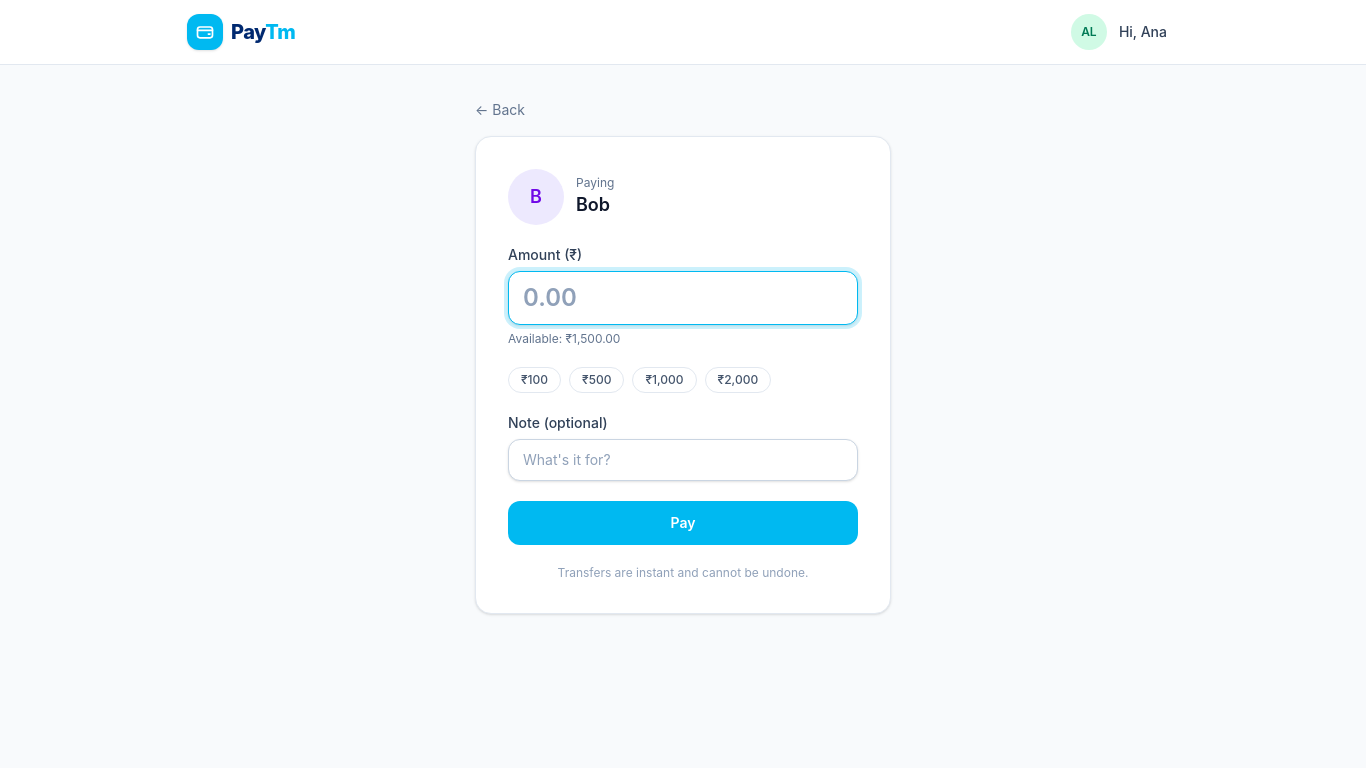
Scenario: SendMoney › shows server errors such as insufficient balance
Check: the text "Available: ₹1,500.00" is shown, box x1=508 y1=331 x2=620 y2=346
Type "10" into the field labelled "Amount (₹)".
click(683, 298); type("10")  # box x1=508 y1=271 x2=858 y2=325
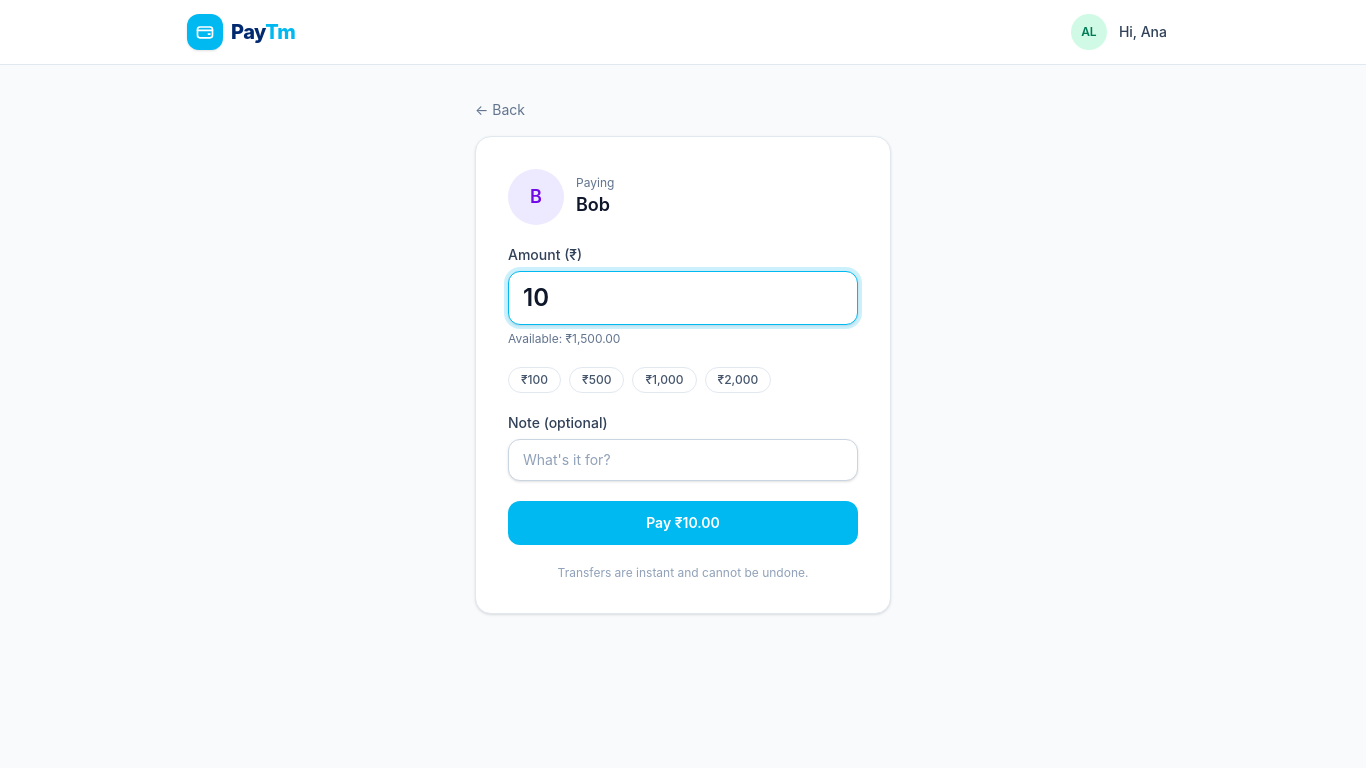
Click the button "Pay ₹10.00".
click(683, 523)  # box x1=508 y1=501 x2=858 y2=545
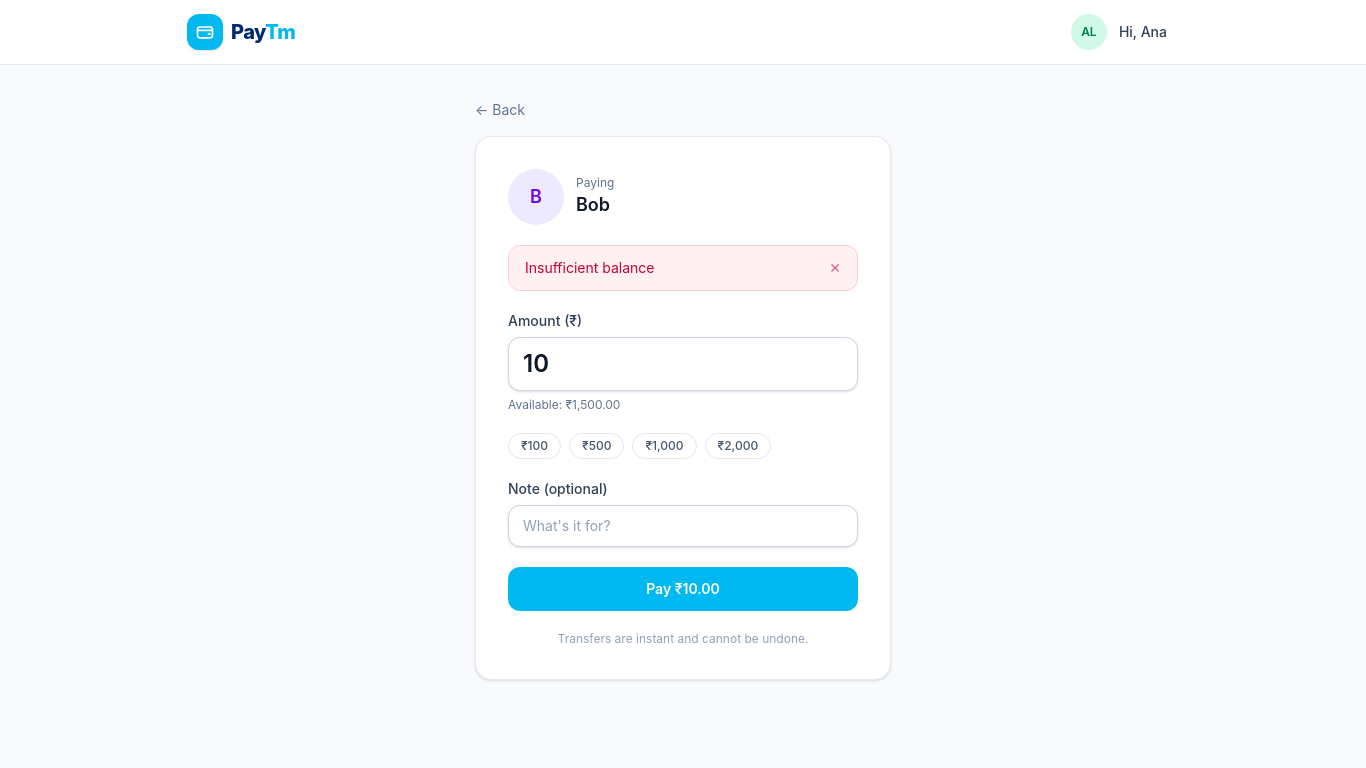
Check: the message shows "Insufficient balance", box x1=525 y1=259 x2=654 y2=276
